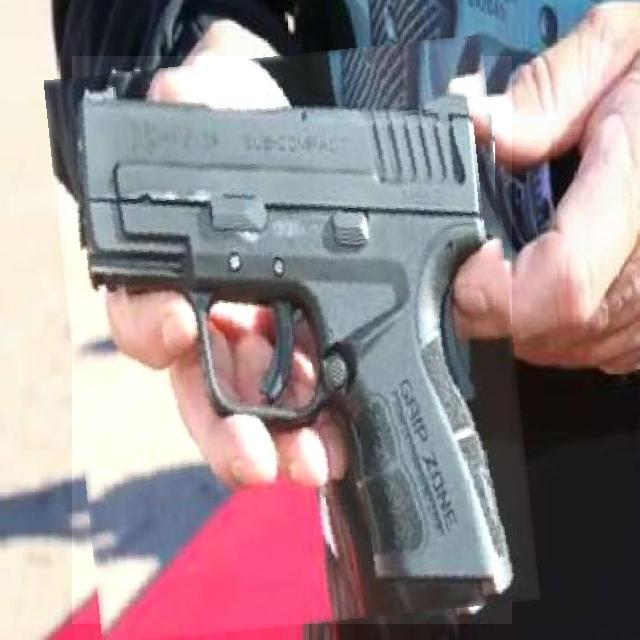handgun: (58, 46, 526, 634)
